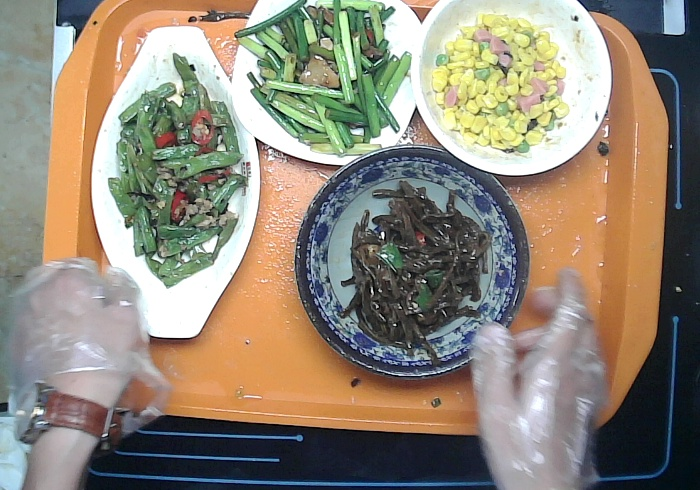ZNLD-Qing_Hua_Wan: (296, 146, 532, 381)
ZNLD-Si_Fang_Wan: (232, 1, 425, 172)
ZNLD-Tang_Wan: (416, 1, 616, 187)
ZNLD-Yu_Pan: (94, 20, 259, 345)
